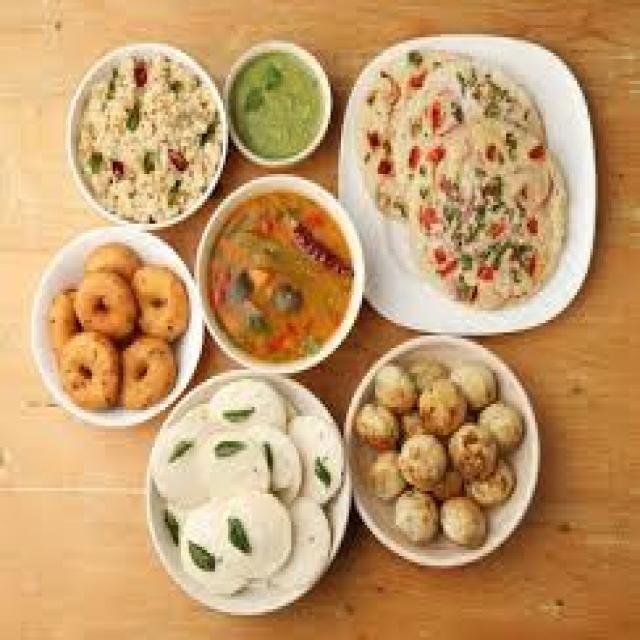IDLI: (184, 488, 289, 587), (283, 410, 341, 497)
MEDU VADA: (58, 326, 118, 404), (118, 332, 173, 404), (71, 267, 131, 332), (134, 261, 184, 339)
